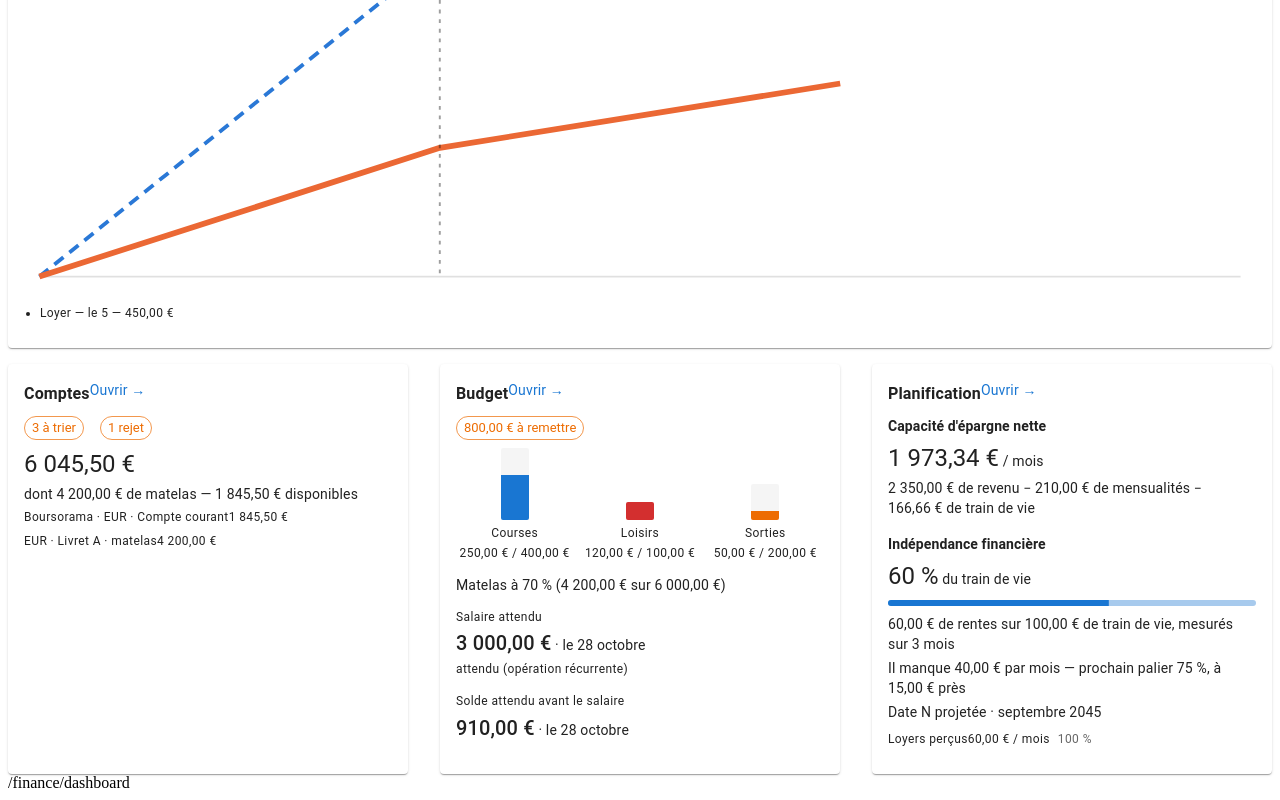
FinanceDashboardPage › the pill pill-to-sort opens /finance/review?state=unrecognised&period=all, not the tile
(page scrolled)
What coordinates should you click on to do the following:
click the link with test id "pill-to-sort"
I would click on:
 (54, 428)
Its box is [24,416,84,440].
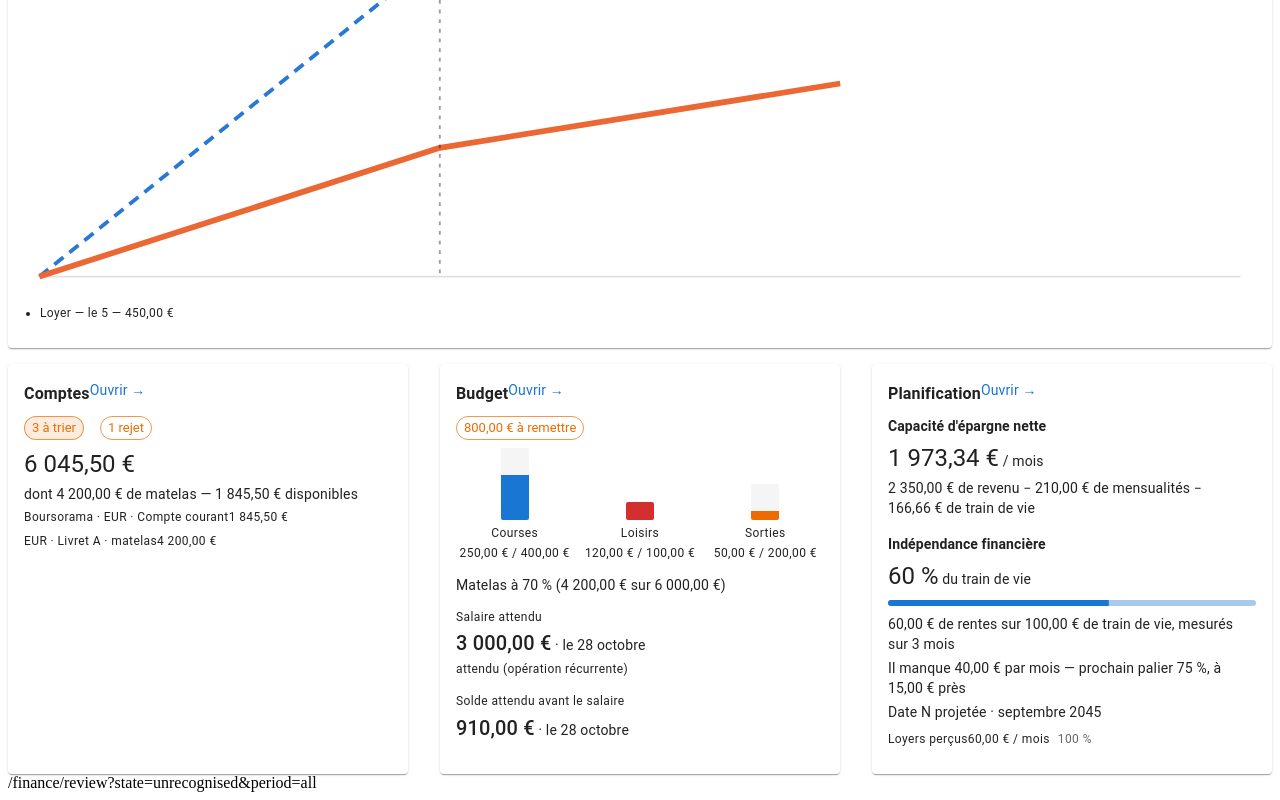
Check: the text with test id "where" reads "/finance/review?state=unrecognised&period=all", box [8,774,317,791]
